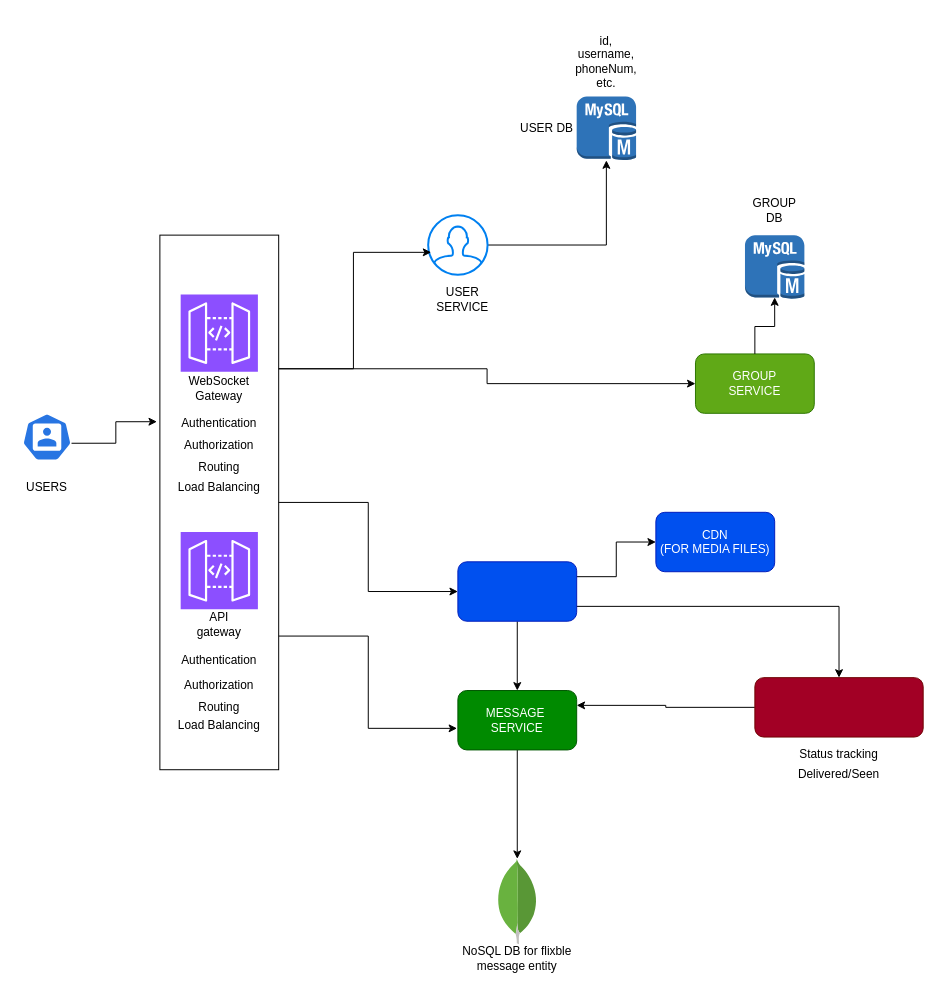
The diagram is 941 pixels wide and 991 high, and some of its shapes have lost their labels. Each missing label, with the centre of its shape:
"CHAT SERVICE (WEB SOCKET BASED)" goes at point (517, 591).
"MESSAGE STREAMING (KAFKA)" goes at point (838, 707).
